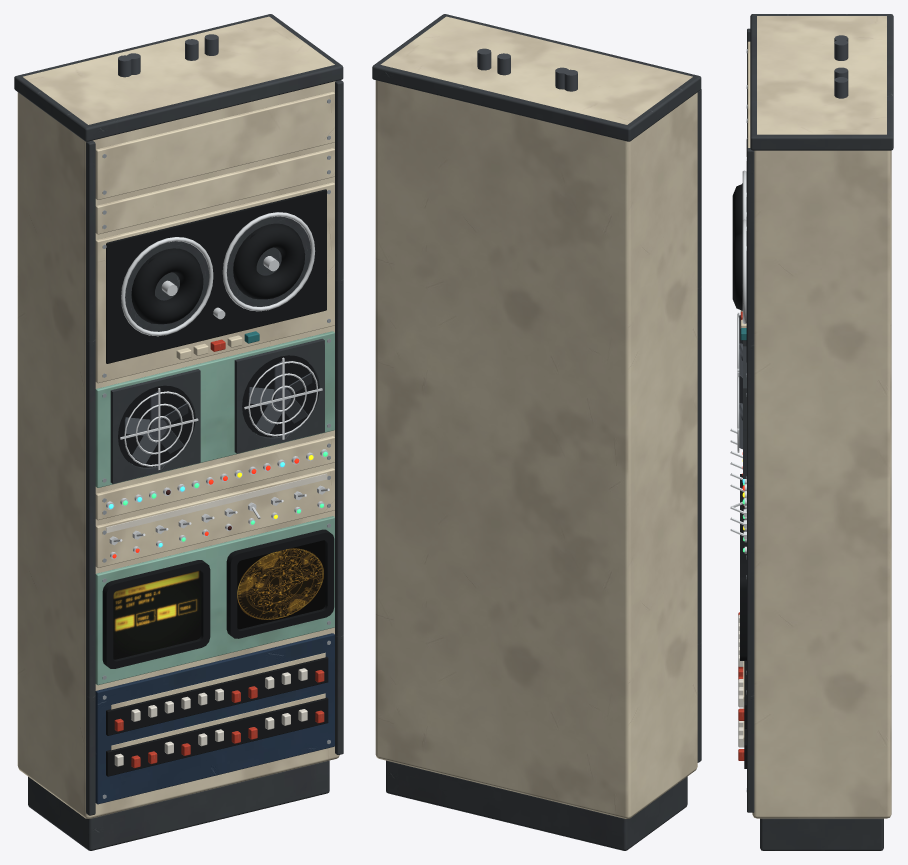
The model's file is Rack_75_5.glb.
3 views of the same model, side by side, from view 1: azimuth 30°, elevation 25°; view 2: azimuth 150°, elevation 25°; view 3: azimuth 270°, elevation 25° (orthographic).
Parts seen in each view (by area): view 1: Rack_75_5_Body; view 2: Rack_75_5_Body; view 3: Rack_75_5_Body.
Part boxes in pixels (x1,y1,x2,y2): Rack_75_5_Body: (14, 14, 343, 850); Rack_75_5_Body: (372, 14, 701, 850); Rack_75_5_Body: (730, 14, 893, 850).
Size of the model in its own units: 0.76 by 2.1 by 0.4216.
Materials: 19 (9 with a texture image).
